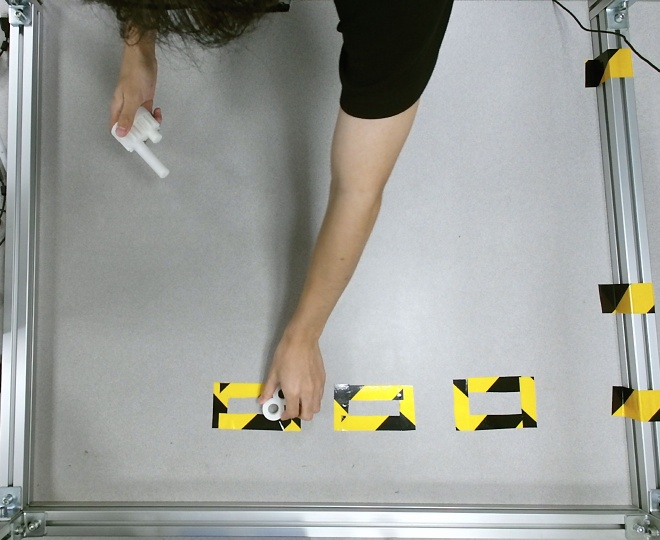stage_3: (111, 105, 170, 179)
